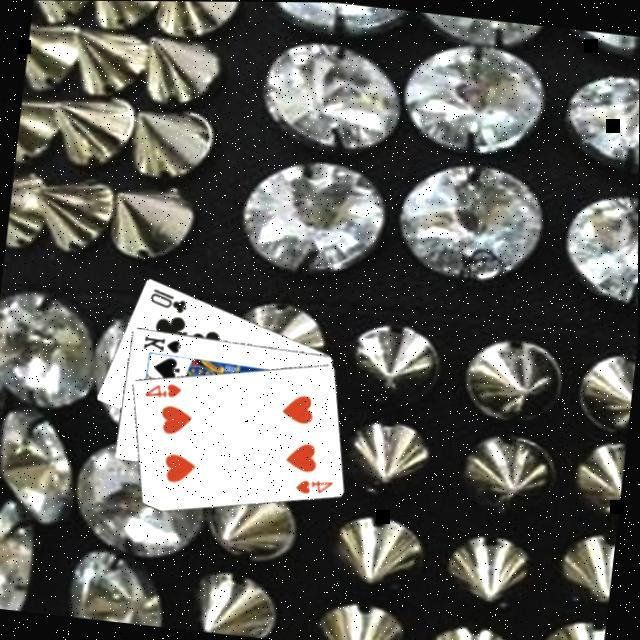10C: (143, 283, 190, 314)
4H: (139, 375, 183, 401), (290, 472, 334, 498)
KS: (138, 330, 183, 354)
